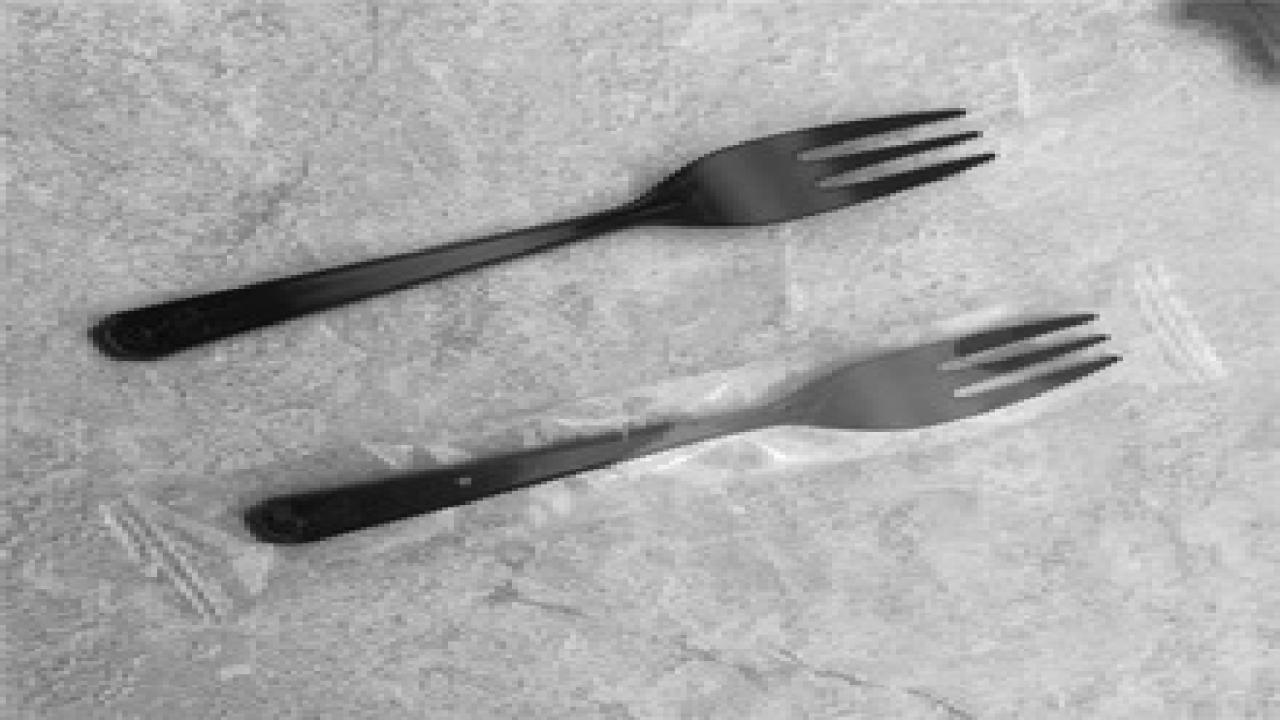fork: (87, 105, 995, 360), (238, 311, 1123, 543)
